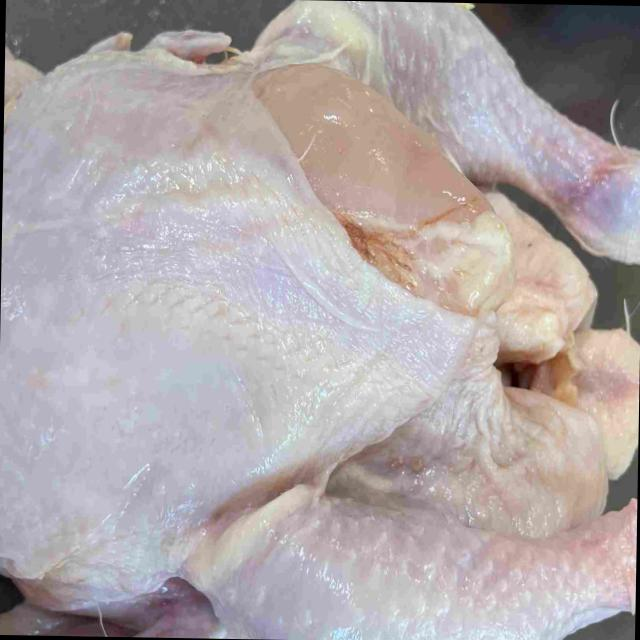breast: (0, 54, 505, 580)
leg: (249, 0, 640, 261), (178, 490, 637, 640)
wing: (0, 584, 233, 639)
